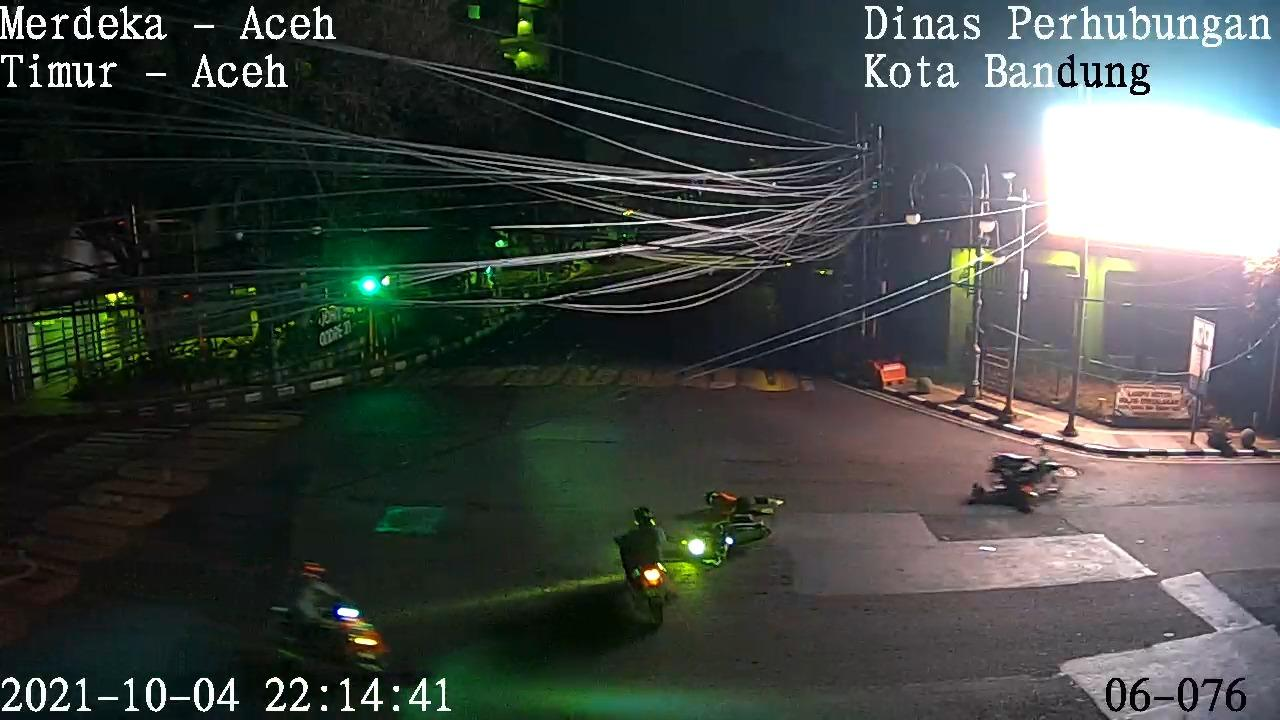accident: (695, 482, 784, 531)
